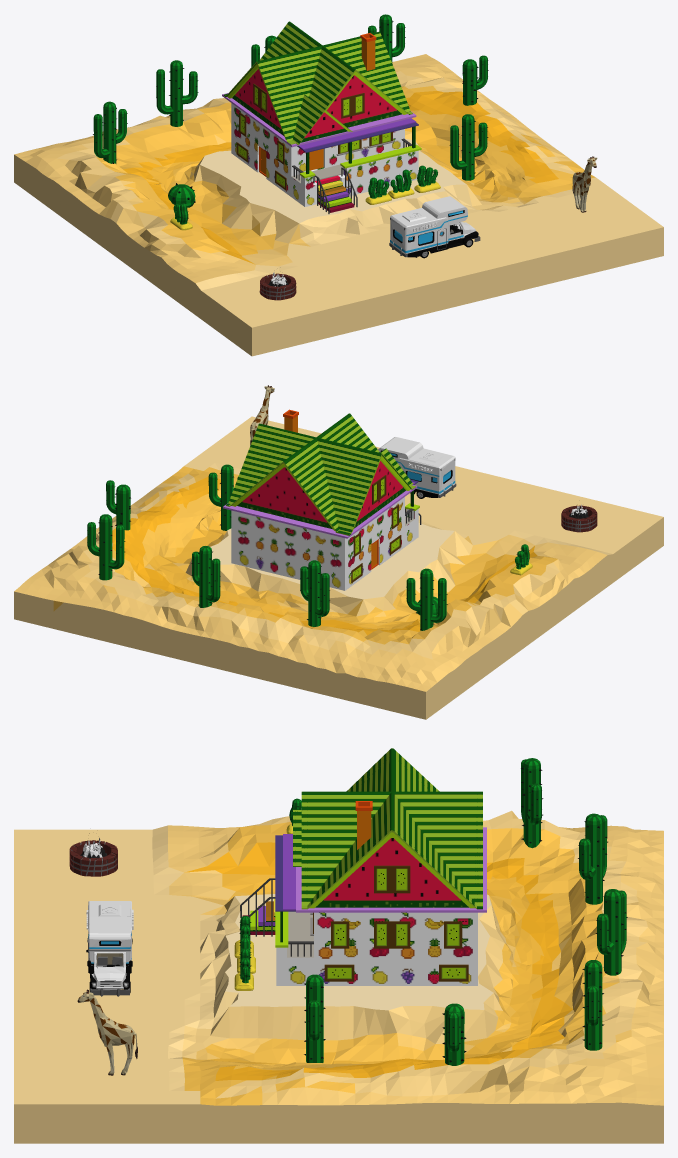
3 renders of one model, top to bottom at view 1: azimuth 30°, elevation 25°; view 2: azimuth 150°, elevation 25°; view 3: azimuth 270°, elevation 25°, orthographic. The views are drawn at different scales.
Parts seen in each view (by area): view 1: Cube.001, Cube.1063, VEHICLES_CAMPER, Cylinder.044, Cylinder.037, Cylinder.045, Cylinder.038, OBJRANDOM_CAMPFIRE, Cylinder.042, ANIMAL_JIRAFA, Cylinder.039, Cylinder.041 (+1 smaller); view 2: Cube.001, Cube.1063, VEHICLES_CAMPER, Cylinder.042, Cylinder.045, Cylinder.044, Cylinder.043, Cylinder.037, Cylinder.038, OBJRANDOM_CAMPFIRE; view 3: Cube.001, Cube.1063, VEHICLES_CAMPER, Cylinder.044, Cylinder.043, Cylinder.045, Cylinder.042, ANIMAL_JIRAFA, OBJRANDOM_CAMPFIRE, Cylinder.037, Cylinder.038, Cylinder.041.
Boxes of the visible parts, x1=… form: Cube.001: x1=14, y1=54, x2=663, y2=356; Cube.1063: x1=222, y1=21, x2=421, y2=213; VEHICLES_CAMPER: x1=389, y1=196, x2=480, y2=258; Cylinder.044: x1=156, y1=60, x2=198, y2=126; Cylinder.037: x1=449, y1=114, x2=488, y2=180; Cylinder.045: x1=93, y1=101, x2=127, y2=163; Cylinder.038: x1=462, y1=55, x2=488, y2=105; OBJRANDOM_CAMPFIRE: x1=259, y1=272, x2=296, y2=300; Cylinder.042: x1=368, y1=14, x2=405, y2=62; ANIMAL_JIRAFA: x1=572, y1=156, x2=597, y2=212; Cylinder.039: x1=365, y1=177, x2=391, y2=204; Cylinder.041: x1=414, y1=165, x2=440, y2=192; Cube.001: x1=14, y1=416, x2=663, y2=719; Cube.1063: x1=223, y1=409, x2=421, y2=590; VEHICLES_CAMPER: x1=378, y1=437, x2=456, y2=498; Cylinder.042: x1=87, y1=514, x2=125, y2=580; Cylinder.045: x1=406, y1=568, x2=447, y2=630; Cylinder.044: x1=300, y1=560, x2=329, y2=626; Cylinder.043: x1=191, y1=546, x2=220, y2=607; Cylinder.037: x1=208, y1=464, x2=238, y2=530; Cylinder.038: x1=106, y1=480, x2=130, y2=530; OBJRANDOM_CAMPFIRE: x1=561, y1=504, x2=597, y2=532; Cube.001: x1=14, y1=810, x2=663, y2=1143; Cube.1063: x1=240, y1=748, x2=486, y2=985; VEHICLES_CAMPER: x1=86, y1=901, x2=133, y2=996; Cylinder.044: x1=578, y1=813, x2=607, y2=904; Cylinder.043: x1=595, y1=889, x2=627, y2=975; Cylinder.045: x1=521, y1=758, x2=543, y2=848; Cylinder.042: x1=582, y1=960, x2=604, y2=1050; ANIMAL_JIRAFA: x1=77, y1=989, x2=137, y2=1075; OBJRANDOM_CAMPFIRE: x1=69, y1=833, x2=117, y2=876; Cylinder.037: x1=304, y1=974, x2=325, y2=1062; Cylinder.038: x1=442, y1=1003, x2=466, y2=1065; Cylinder.041: x1=234, y1=948, x2=253, y2=990.
Bounding box in the file's own units: 4002 × 1627 × 4001.
39 materials, 4 textured.
